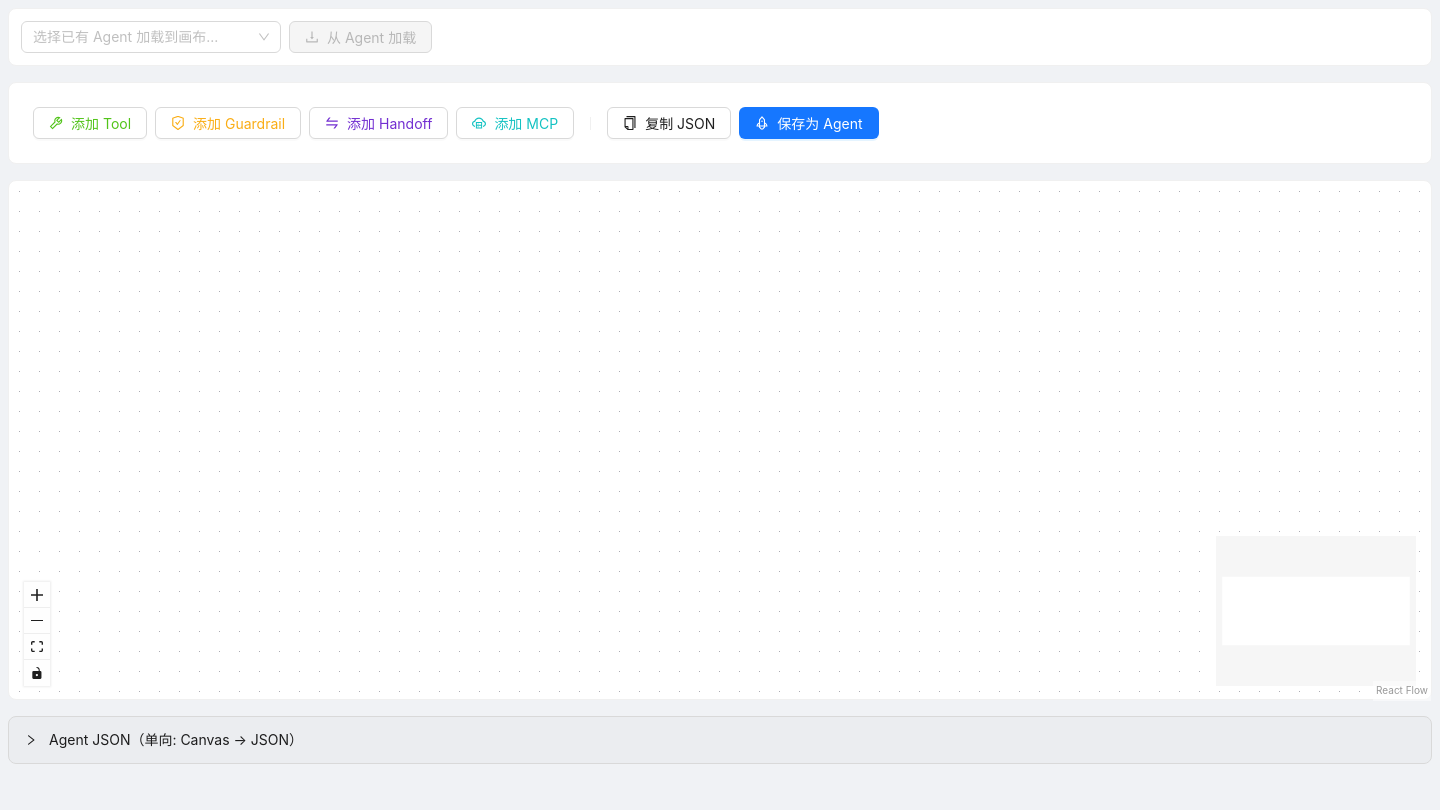
Test: VisualBuilderPage › 点击保存为 Agent 打开 Modal
This screenshot has width=1440, height=810.
Click the button "保存为 Agent" at {"x": 809, "y": 123}, box [739, 107, 878, 139]
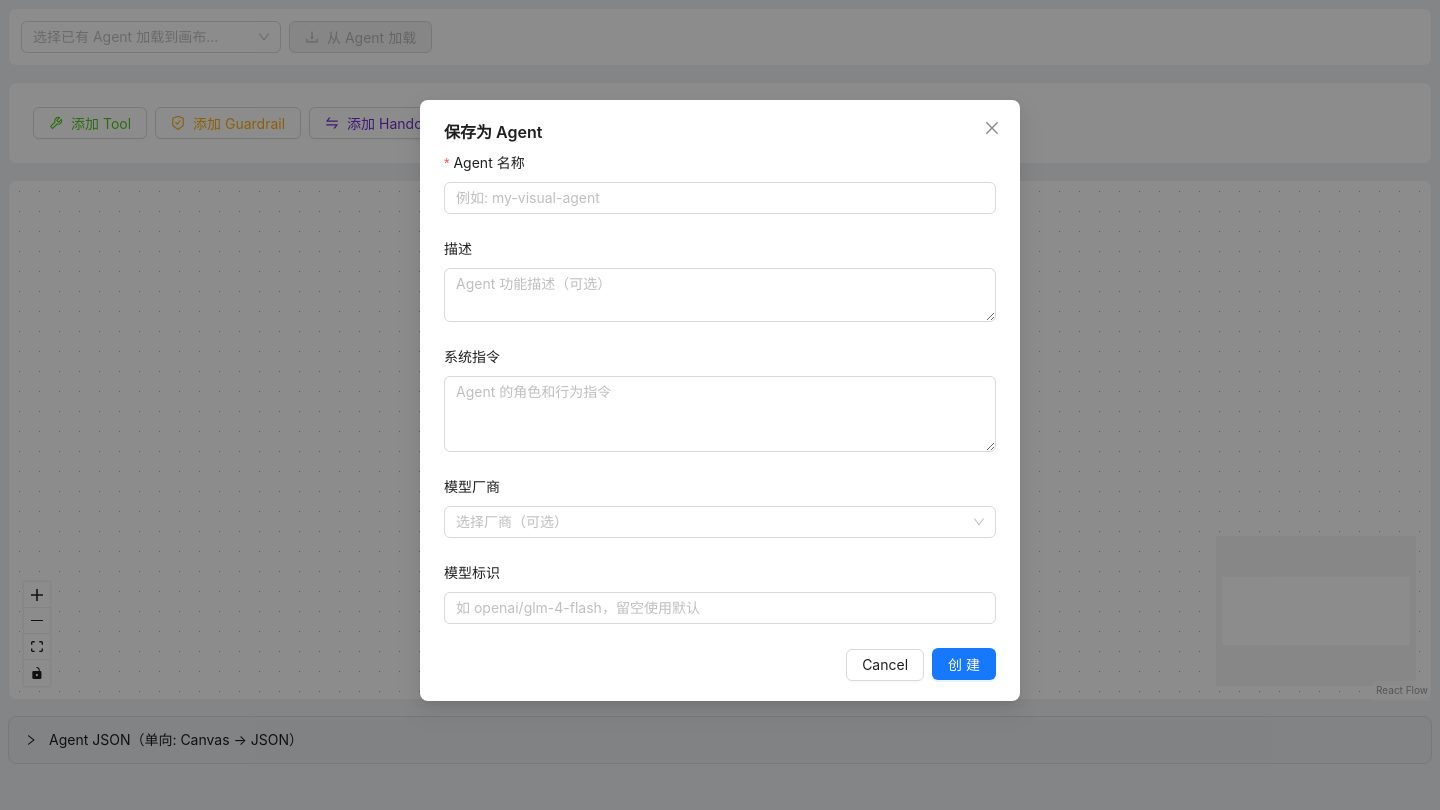
Result: the text "Agent 名称" is shown at [444, 152, 539, 174]
